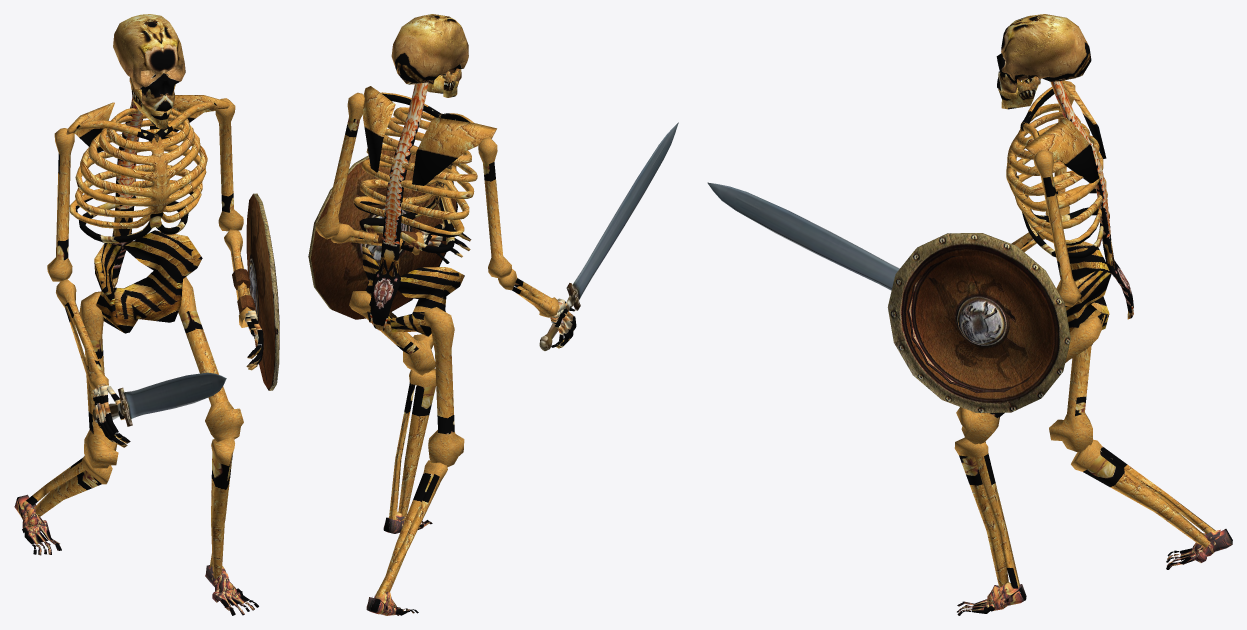
Rendered from Skeleton_000004.obj.
The picture shows the model from 3 angles, left to right: view 1: azimuth 30°, elevation 25°; view 2: azimuth 150°, elevation 25°; view 3: azimuth 270°, elevation 25°; orthographic projection. The views are drawn at different scales.
Visible parts, largest first — view 1: Costillar, Coxis, Femur, Skull, Shield_Shield.001, Tibia, Humero, Sword, Radio, Feet, Hands, Omoplato (+1 smaller); view 2: Costillar, Shield_Shield.001, Tibia, Femur, Omoplato, Skull, Humero, Coxis, Sword, Radio, Hands, Feet (+1 smaller); view 3: Shield_Shield.001, Costillar, Tibia, Skull, Sword, Femur, Omoplato, Coxis, Humero, Feet, Mandibula.
Boxes of the visible parts, box(x1,y1,x2,y2) form: Costillar: box(69, 97, 216, 287); Coxis: box(94, 230, 202, 333); Femur: box(79, 277, 243, 468); Skull: box(113, 14, 185, 111); Shield_Shield.001: box(232, 193, 279, 390); Tibia: box(26, 437, 234, 578); Humero: box(47, 98, 243, 281); Sword: box(92, 372, 226, 426); Radio: box(56, 229, 252, 389); Feet: box(14, 494, 258, 615); Hands: box(92, 310, 263, 447); Omoplato: box(66, 95, 230, 152); Costillar: box(353, 82, 477, 331); Shield_Shield.001: box(308, 145, 457, 319); Tibia: box(375, 368, 447, 597); Femur: box(349, 291, 464, 467); Omoplato: box(363, 86, 496, 185); Skull: box(391, 14, 468, 84); Humero: box(315, 92, 511, 278); Coxis: box(362, 246, 464, 336); Sword: box(539, 122, 678, 350); Radio: box(331, 223, 558, 317); Hands: box(419, 223, 576, 348); Feet: box(366, 511, 432, 615); Shield_Shield.001: box(887, 233, 1070, 412); Costillar: box(1006, 81, 1133, 319); Tibia: box(954, 437, 1215, 588); Skull: box(996, 14, 1091, 92); Sword: box(707, 182, 899, 290); Femur: box(956, 316, 1102, 451); Omoplato: box(1024, 80, 1106, 183); Coxis: box(1065, 241, 1111, 345); Humero: box(1033, 81, 1081, 306); Feet: box(957, 529, 1232, 615); Mandibula: box(998, 76, 1040, 109).
Bounding box in the file's own units: 3.2 × 8.31 × 6.93.
Materials: 5 (5 with a texture image).
